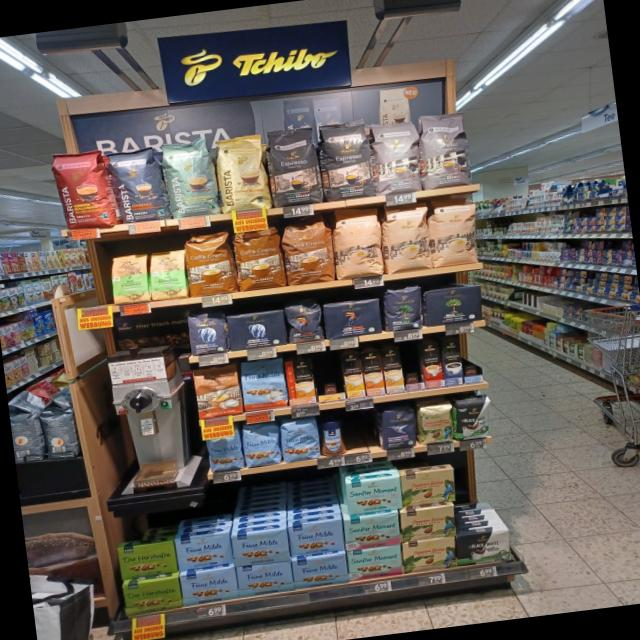AB Bohne: (184, 309, 228, 356)
AB Gemahlen: (224, 308, 288, 352)
Athiopien Gemahlen: (146, 245, 189, 301), (108, 250, 152, 304)
BM Gemahlen: (421, 284, 485, 327), (382, 283, 426, 332)
BW Bohne: (454, 395, 494, 442)
BW Gemahlen: (455, 529, 513, 566)
Barista CB: (212, 132, 274, 215)
Barista CC: (158, 136, 222, 220)
Barista Espresso: (107, 144, 171, 226)
Barista Kolumbien: (48, 144, 118, 233)
C Fino Bohne: (378, 404, 419, 451)
CC Mild: (330, 202, 386, 280), (426, 192, 482, 268), (379, 199, 433, 274)
CC Vollmundig: (190, 362, 245, 419)
CC Vollmundig 36 Pads: (278, 213, 336, 286), (180, 228, 238, 298), (232, 226, 286, 292)
Colombia BB Gemahlen: (399, 468, 458, 508), (398, 505, 456, 543), (402, 536, 459, 574), (416, 401, 456, 445)
Empty Shelf: (344, 409, 382, 454), (311, 354, 344, 396), (401, 342, 423, 383), (460, 336, 482, 376)
Espresso Aromatisch: (416, 108, 474, 190), (368, 114, 424, 196)
Espresso Kraftig: (316, 117, 376, 202), (266, 123, 324, 208)
FM 36 Pads: (238, 357, 289, 412)
FM Bohne: (280, 416, 322, 462), (241, 421, 282, 468), (206, 434, 244, 473)
FM Gemahlen: (230, 526, 290, 568), (178, 566, 239, 606), (174, 532, 234, 572), (235, 560, 294, 598), (288, 520, 346, 558), (292, 552, 349, 589)
FM Instant: (318, 417, 348, 458)
Herzhatfe Mundig: (116, 540, 178, 580), (120, 576, 183, 615)
LG Bohne: (283, 299, 325, 344)
LG Gemahlen: (321, 298, 384, 340)
SM Gemahlen: (344, 475, 404, 516), (343, 511, 402, 550), (346, 544, 404, 582)
Simo CCMild bigpack: (340, 352, 366, 399)
Simo CCVollmundig: (284, 358, 317, 406)
Simo CCVollmundig bigpack: (362, 350, 384, 396)
Simo Decaff: (381, 346, 405, 392)
Simo Es Brazil: (420, 340, 444, 388)
Simo Es Kraft: (441, 338, 464, 385)
